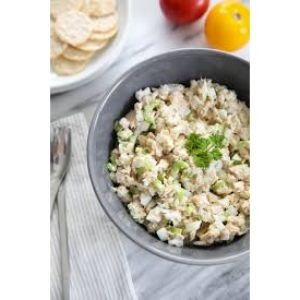tuna_brain food: (115, 69, 245, 252)
